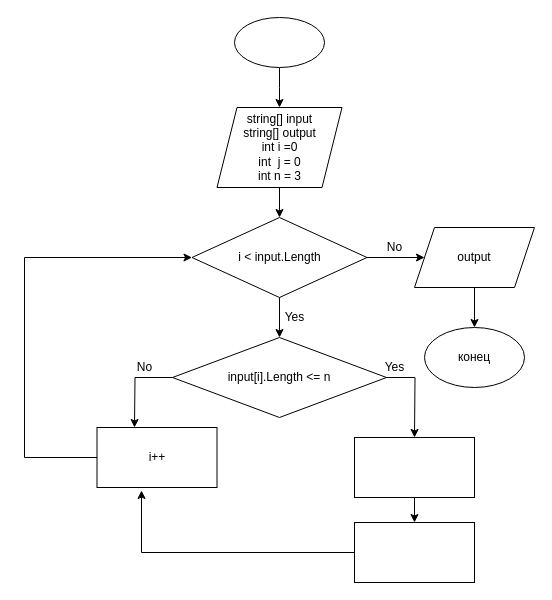
Image size: 552x600. Some labels were removed from this diagram. The centre of each missing label's shape, as x and y in pixels:
"j++" belongs at (414,552).
"output[j] = input[i]" belongs at (414,467).
"Начало" belongs at (279,42).
